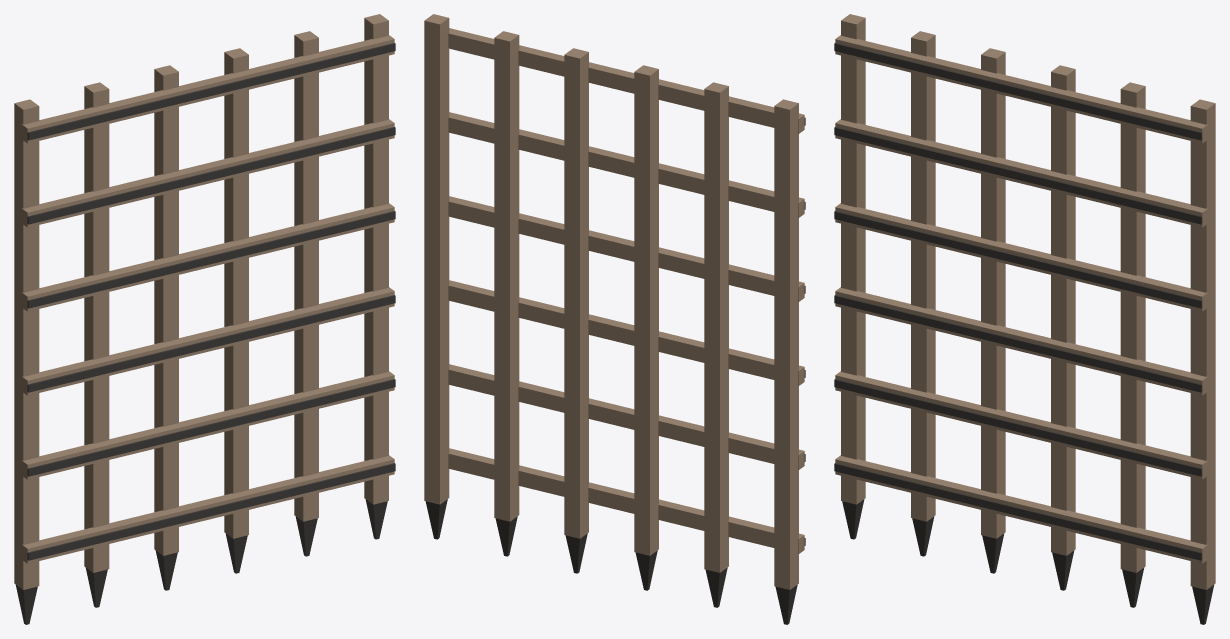
Rendered from Kit_RealGate_Portc_Fractured.fbx.
3 renders of one model, left to right at view 1: azimuth 30°, elevation 25°; view 2: azimuth 150°, elevation 25°; view 3: azimuth 330°, elevation 25°, orthographic.
Visible parts, largest first — view 1: Kit_RealGate_Portc_frag_05, Kit_RealGate_Portc_frag_09, Kit_RealGate_Portc_frag_02, Kit_RealGate_Portc_frag_04, Kit_RealGate_Portc_frag_06, Kit_RealGate_Portc_frag_10, Kit_RealGate_Portc_frag_01, Kit_RealGate_Portc_frag_03, Kit_RealGate_Portc_frag_07, Kit_RealGate_Portc_frag_08; view 2: Kit_RealGate_Portc_frag_09, Kit_RealGate_Portc_frag_05, Kit_RealGate_Portc_frag_10, Kit_RealGate_Portc_frag_04, Kit_RealGate_Portc_frag_02, Kit_RealGate_Portc_frag_06, Kit_RealGate_Portc_frag_08, Kit_RealGate_Portc_frag_01, Kit_RealGate_Portc_frag_07, Kit_RealGate_Portc_frag_03; view 3: Kit_RealGate_Portc_frag_09, Kit_RealGate_Portc_frag_05, Kit_RealGate_Portc_frag_10, Kit_RealGate_Portc_frag_02, Kit_RealGate_Portc_frag_04, Kit_RealGate_Portc_frag_06, Kit_RealGate_Portc_frag_08, Kit_RealGate_Portc_frag_01, Kit_RealGate_Portc_frag_07, Kit_RealGate_Portc_frag_03.
Part boxes in pixels (x1,y1,x2,y2): Kit_RealGate_Portc_frag_05: (146, 174, 275, 449); Kit_RealGate_Portc_frag_09: (269, 139, 395, 419); Kit_RealGate_Portc_frag_02: (14, 324, 152, 479); Kit_RealGate_Portc_frag_04: (14, 82, 152, 227); Kit_RealGate_Portc_frag_06: (146, 48, 275, 197); Kit_RealGate_Portc_frag_10: (269, 14, 395, 167); Kit_RealGate_Portc_frag_01: (14, 444, 152, 624); Kit_RealGate_Portc_frag_03: (14, 208, 152, 347); Kit_RealGate_Portc_frag_07: (146, 410, 275, 590); Kit_RealGate_Portc_frag_08: (269, 376, 395, 556); Kit_RealGate_Portc_frag_09: (424, 136, 557, 409); Kit_RealGate_Portc_frag_05: (552, 170, 680, 439); Kit_RealGate_Portc_frag_10: (424, 14, 557, 159); Kit_RealGate_Portc_frag_04: (674, 82, 805, 227); Kit_RealGate_Portc_frag_02: (674, 324, 805, 469); Kit_RealGate_Portc_frag_06: (552, 48, 680, 193); Kit_RealGate_Portc_frag_08: (424, 377, 557, 556); Kit_RealGate_Portc_frag_01: (674, 445, 805, 624); Kit_RealGate_Portc_frag_07: (552, 411, 679, 590); Kit_RealGate_Portc_frag_03: (674, 204, 805, 347); Kit_RealGate_Portc_frag_09: (1081, 208, 1215, 479); Kit_RealGate_Portc_frag_05: (958, 174, 1087, 450); Kit_RealGate_Portc_frag_10: (1081, 82, 1215, 227); Kit_RealGate_Portc_frag_02: (834, 256, 964, 420); Kit_RealGate_Portc_frag_04: (834, 14, 964, 168); Kit_RealGate_Portc_frag_06: (958, 48, 1087, 198); Kit_RealGate_Portc_frag_08: (1081, 444, 1215, 624); Kit_RealGate_Portc_frag_01: (834, 376, 964, 556); Kit_RealGate_Portc_frag_07: (958, 410, 1087, 590); Kit_RealGate_Portc_frag_03: (834, 139, 964, 279).
Size of what is drawn, in the model's own units: 2.56 by 3.46 by 0.181.
